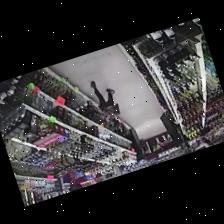person: (90, 81, 119, 128)
